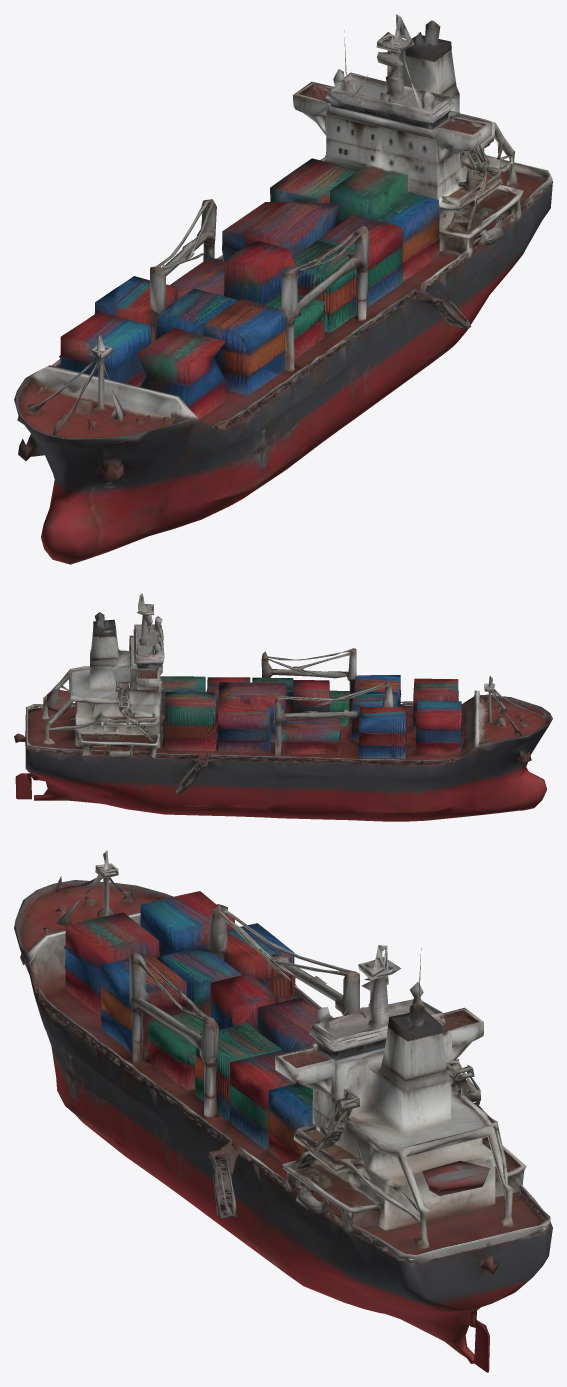
Rendered from ship_cargo.glb.
3 renders of one model, top to bottom at view 1: azimuth 30°, elevation 25°; view 2: azimuth 150°, elevation 25°; view 3: azimuth 270°, elevation 25°, orthographic. The views are drawn at different scales.
Parts seen in each view (by area): view 1: tripo_node_6b3bf112-8d9d-4639-bf3f-ba050a25b3d8; view 2: tripo_node_6b3bf112-8d9d-4639-bf3f-ba050a25b3d8; view 3: tripo_node_6b3bf112-8d9d-4639-bf3f-ba050a25b3d8.
Part boxes in pixels (bbox=[...]): tripo_node_6b3bf112-8d9d-4639-bf3f-ba050a25b3d8: bbox=[14, 14, 552, 564]; tripo_node_6b3bf112-8d9d-4639-bf3f-ba050a25b3d8: bbox=[14, 593, 552, 821]; tripo_node_6b3bf112-8d9d-4639-bf3f-ba050a25b3d8: bbox=[14, 850, 552, 1372].
Size of the model in its own units: 1 by 0.466 by 0.6438.
Materials: 1 (1 with a texture image).
